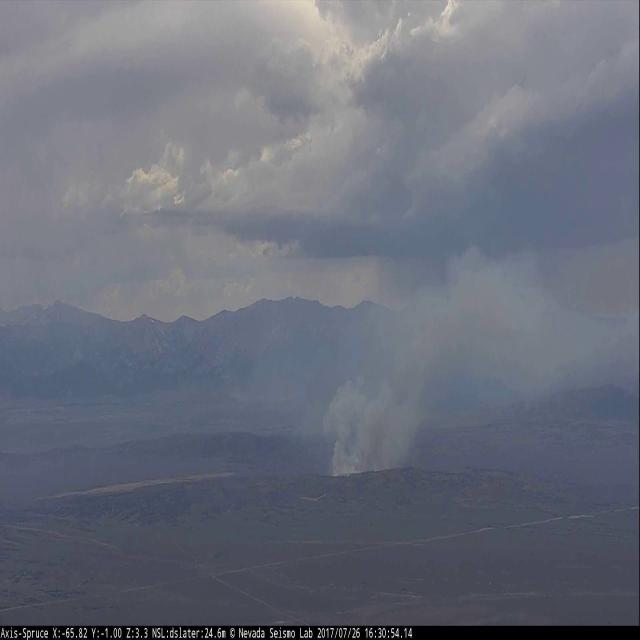smoke: (294, 231, 616, 496)
